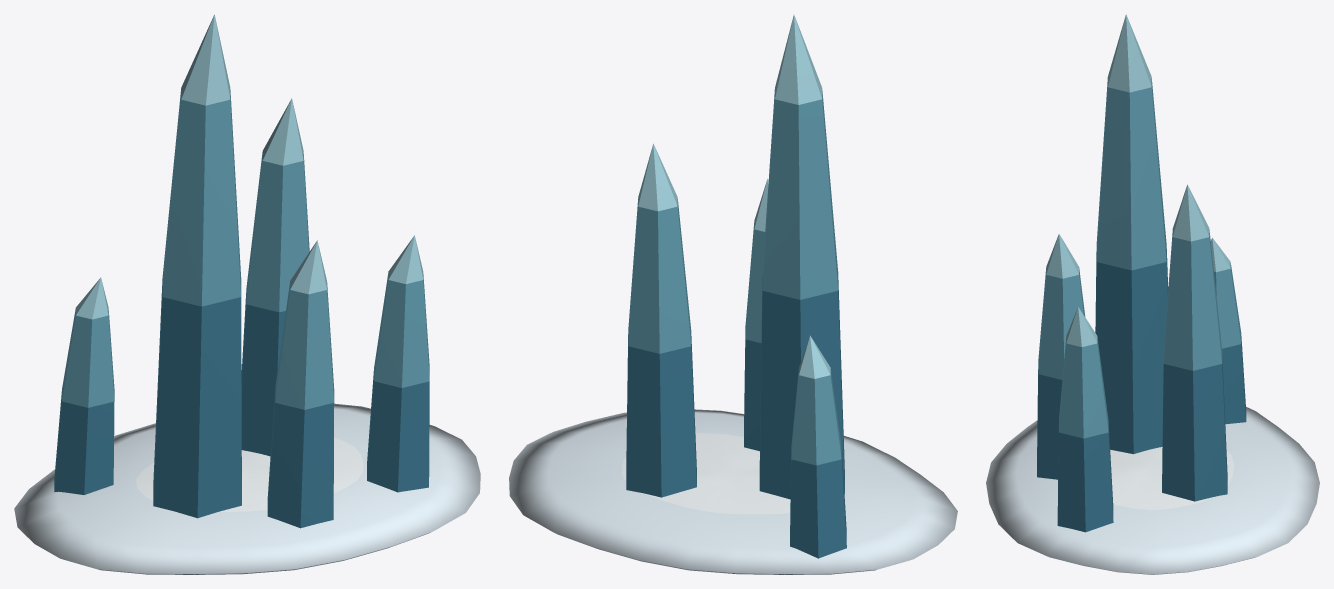
File: Prop_Snow_IceSpireCluster_001.glb
3 views of the same model, side by side, from view 1: azimuth 30°, elevation 25°; view 2: azimuth 150°, elevation 25°; view 3: azimuth 270°, elevation 25° (orthographic). The views are drawn at different scales.
Parts seen in each view (by area): view 1: SN_IceSpires_Body; view 2: SN_IceSpires_Body; view 3: SN_IceSpires_Body.
Boxes of the visible parts, box(x1,y1,x2,y2) form: SN_IceSpires_Body: box(14, 14, 480, 574); SN_IceSpires_Body: box(509, 14, 957, 574); SN_IceSpires_Body: box(986, 14, 1319, 574).
Bounding box in the file's own units: 2.3 × 2.59 × 1.74.
